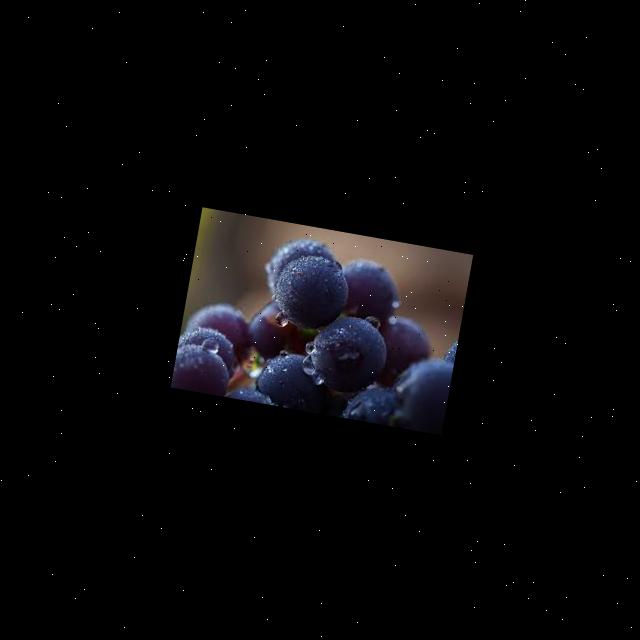grape: (170, 219, 469, 433)
